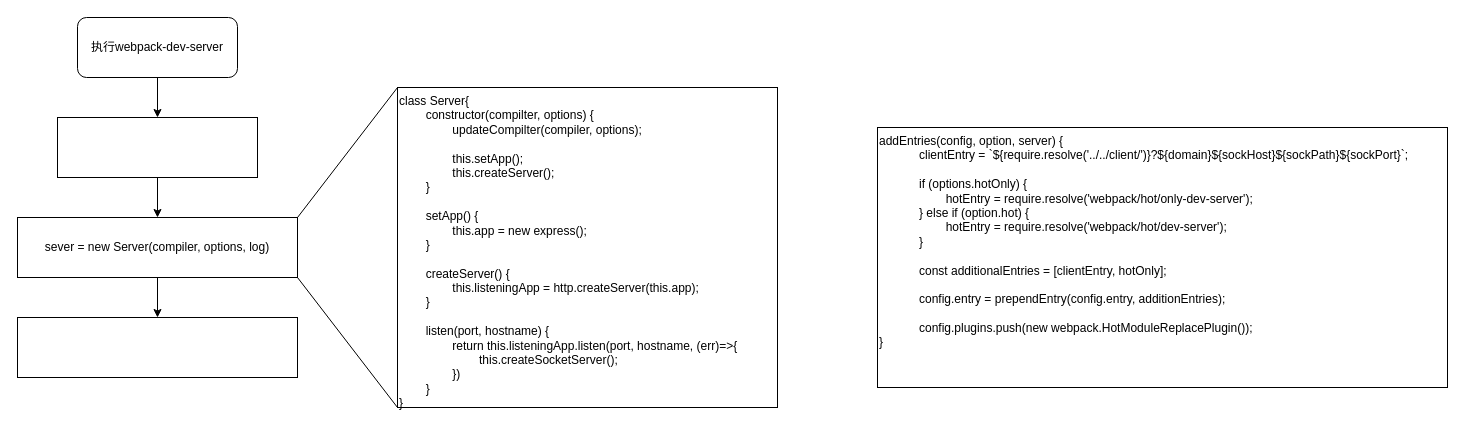
The diagram is 1465 pixels wide and 429 high, and some of its shapes have lost their labels. Each missing label, with the box of its shape:
compiler = webpack(config): (56, 116, 258, 178)
server.listen(option.port, option.host): (16, 316, 298, 378)
